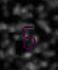six: (19, 20, 37, 49)
